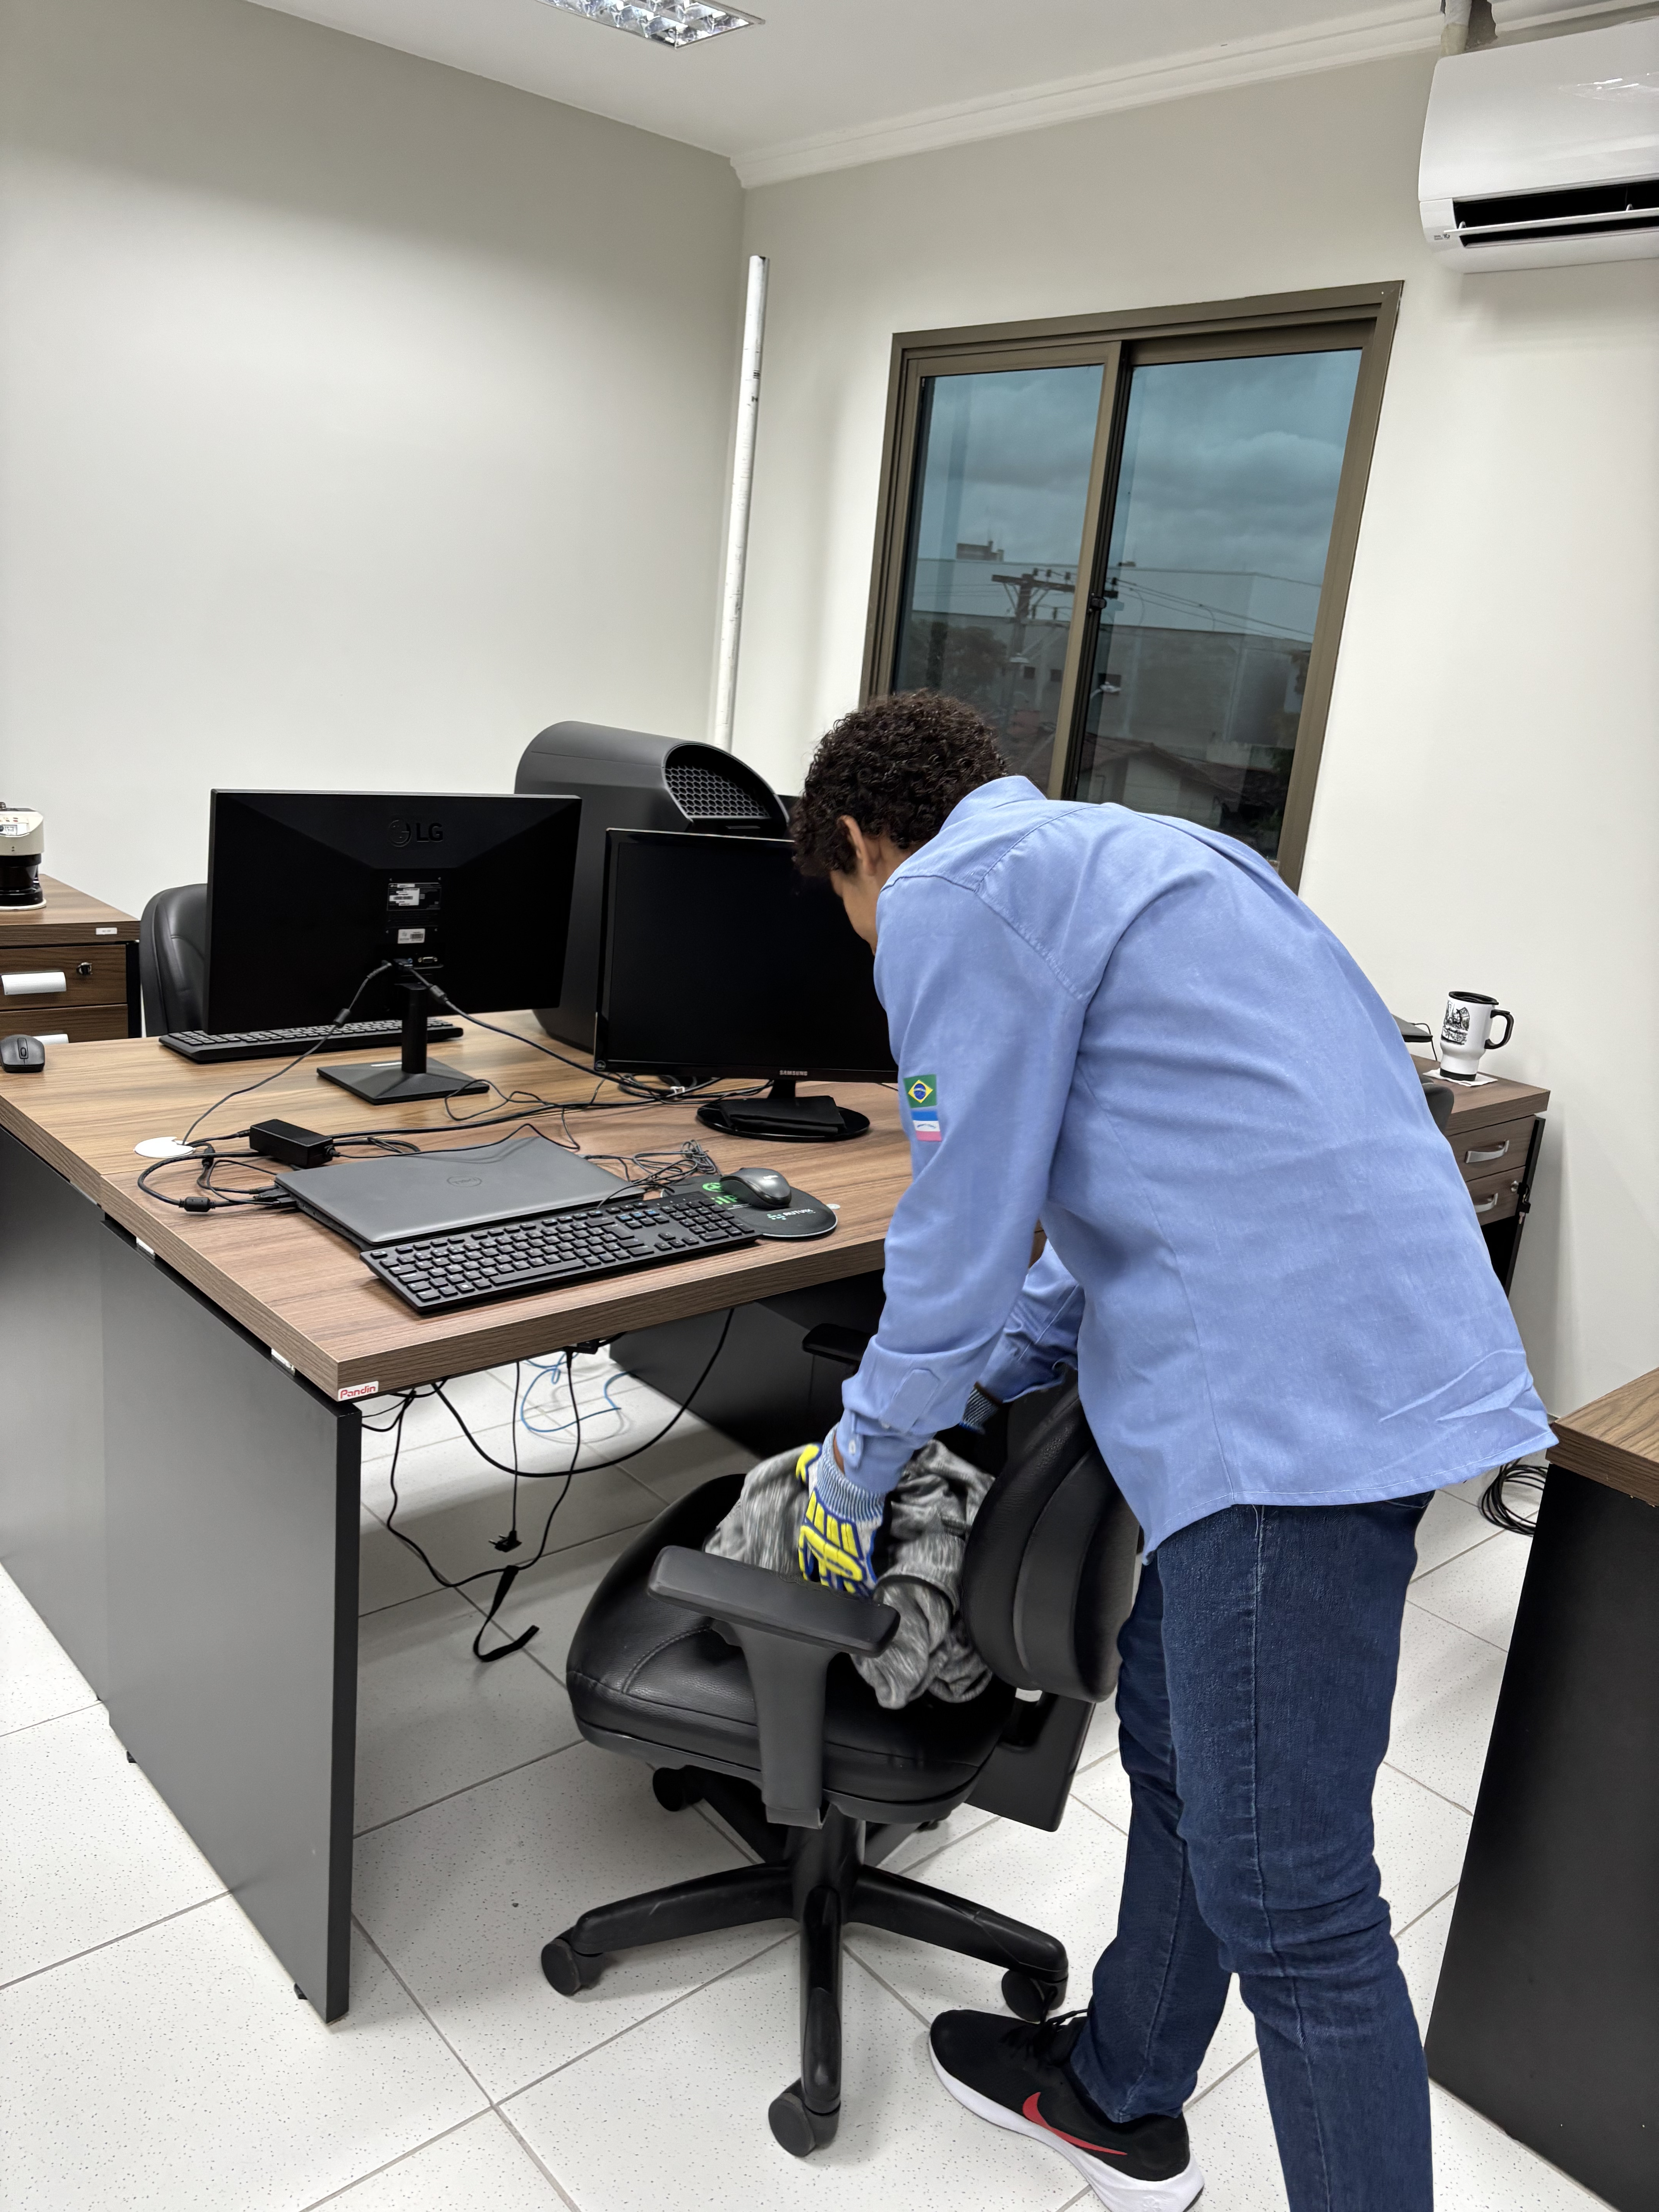Gloves: (791, 1421, 884, 1602)
